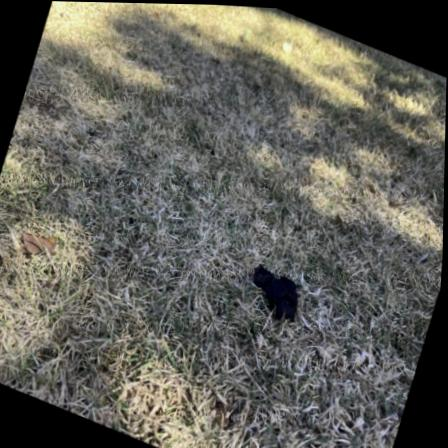dog-poop: (246, 259, 313, 319)
